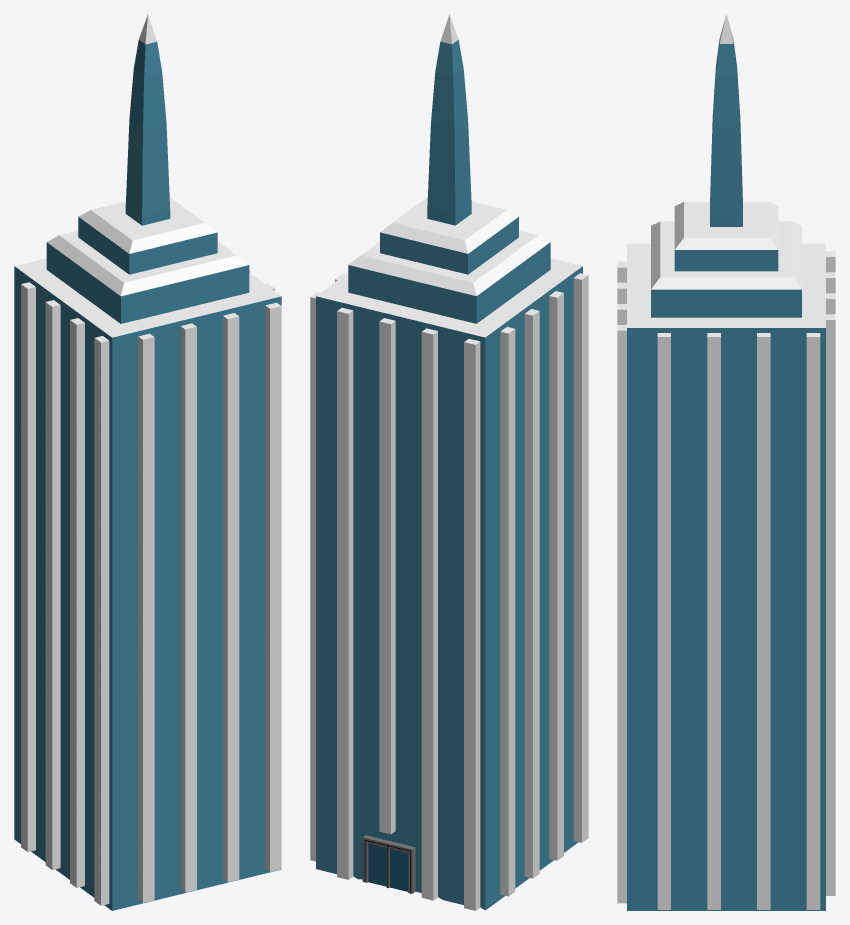
File: SkyScraber3.fbx
The picture shows the model from 3 angles, left to right: view 1: azimuth 30°, elevation 25°; view 2: azimuth 150°, elevation 25°; view 3: azimuth 270°, elevation 25°; orthographic projection.
Parts seen in each view (by area): view 1: SkyScraber4; view 2: SkyScraber4; view 3: SkyScraber4.
Boxes of the visible parts, x1,y1,x2,y2 form: SkyScraber4: (14, 14, 281, 910); SkyScraber4: (310, 14, 588, 910); SkyScraber4: (617, 14, 835, 910).
Bounding box in the file's own units: 5586 × 24127 × 5586.
